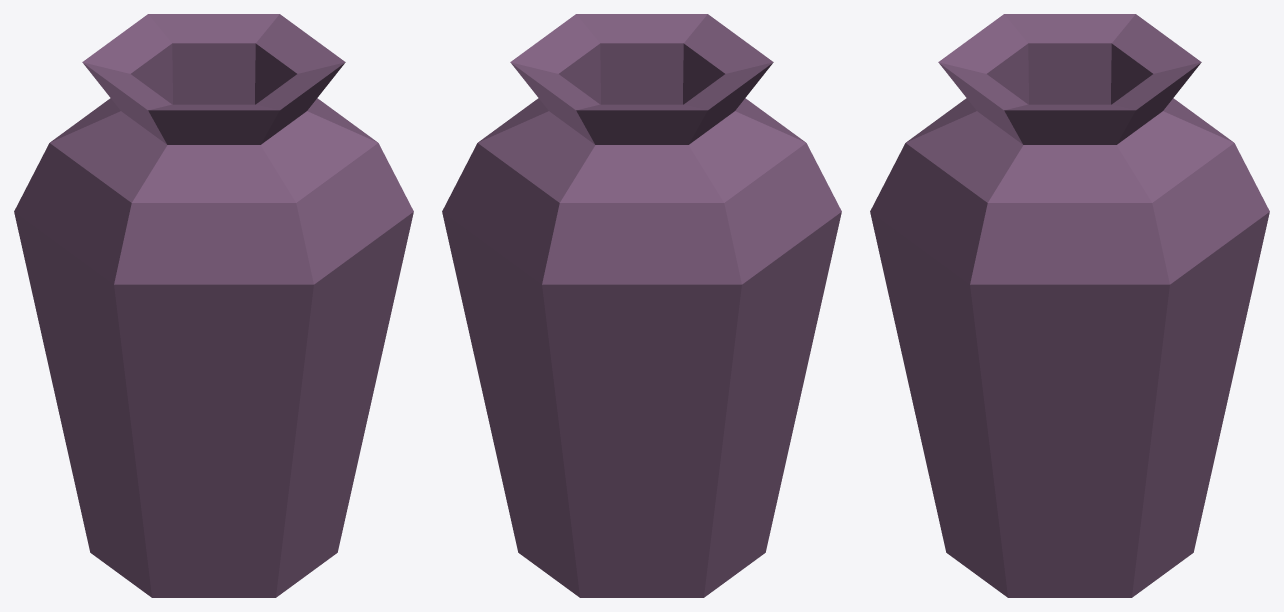
Rendered from Vase_03.fbx.
The picture shows the model from 3 angles, left to right: view 1: azimuth 30°, elevation 25°; view 2: azimuth 150°, elevation 25°; view 3: azimuth 270°, elevation 25°; orthographic projection.
Parts seen in each view (by area): view 1: Vase_03; view 2: Vase_03; view 3: Vase_03.
Part boxes in pixels (bbox=[...]): Vase_03: bbox=[14, 14, 413, 597]; Vase_03: bbox=[442, 14, 841, 597]; Vase_03: bbox=[870, 14, 1269, 597].
Bounding box in the file's own units: 128 × 200 × 148.
